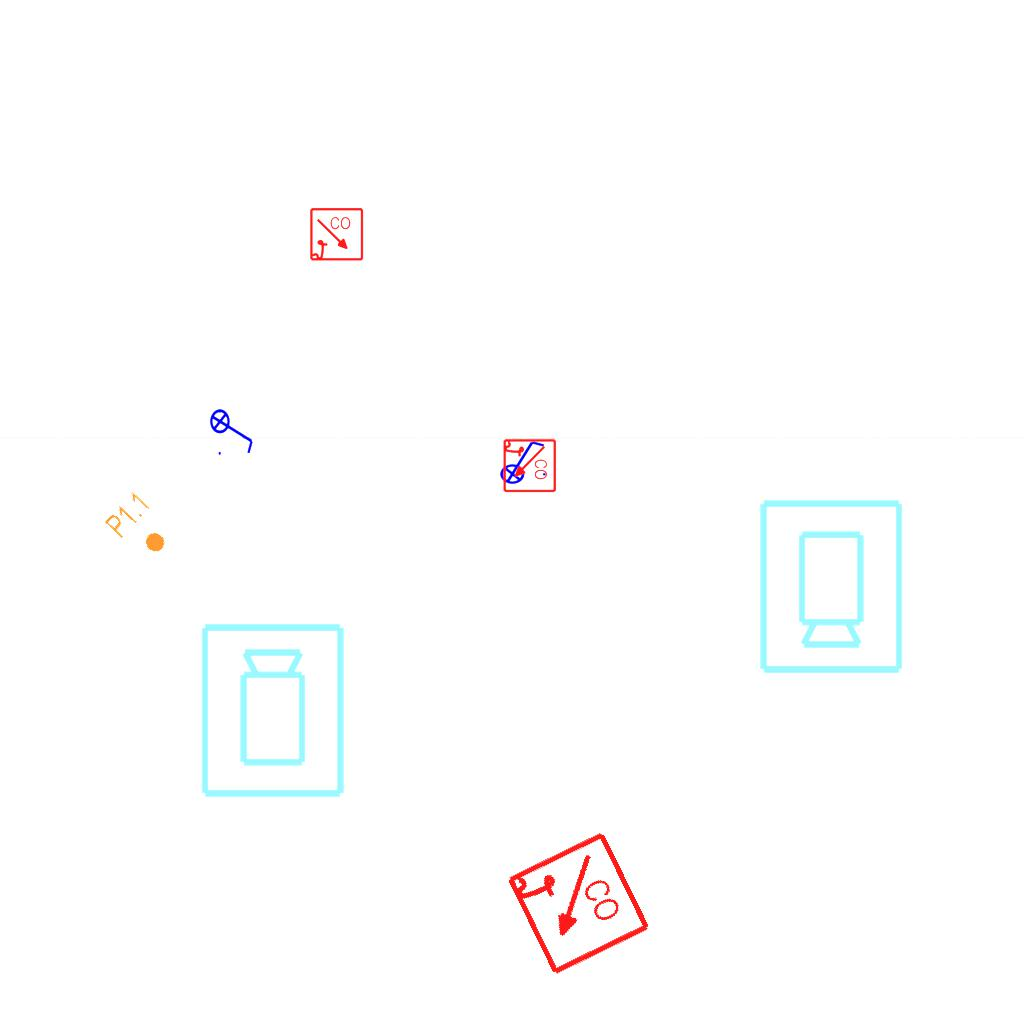Ausschalter_beleuchtet: (209, 402, 257, 458), (493, 437, 549, 485)
Downlight_LED_Einbauleuchten_Flur: (101, 488, 181, 566)
KFO_Kamera_mit_Festobjektiv: (753, 495, 907, 677), (197, 620, 351, 802)
ROA_Rauchmelder_optisch_mit_Signalgeber_(Sockelsirene): (501, 828, 654, 981), (309, 207, 365, 263), (501, 438, 557, 494)
